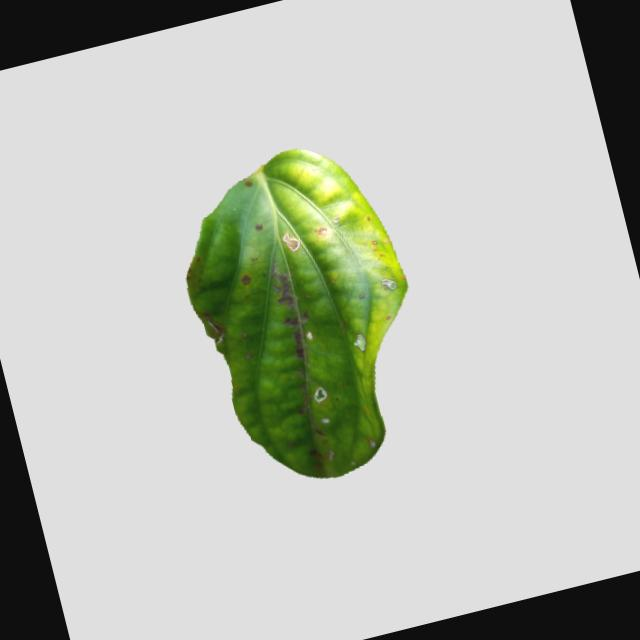yellow-mottle-virus: (146, 124, 456, 502)
